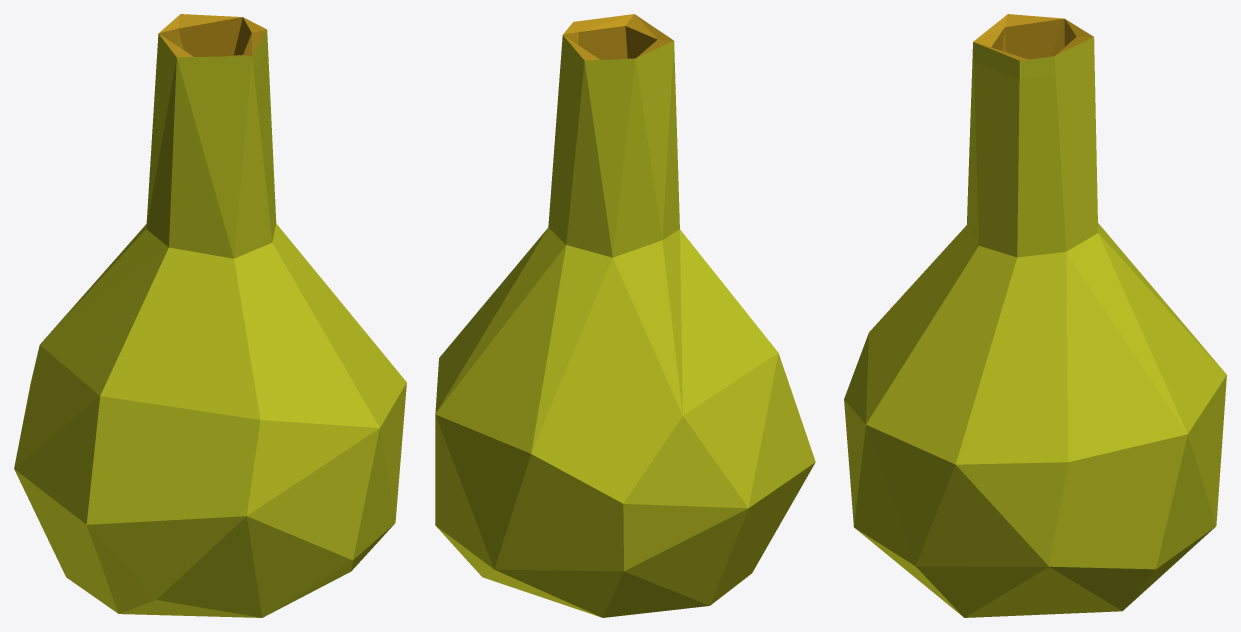
The model's file is Vase04.fbx.
The picture shows the model from 3 angles, left to right: view 1: azimuth 30°, elevation 25°; view 2: azimuth 150°, elevation 25°; view 3: azimuth 270°, elevation 25°; orthographic projection.
Parts seen in each view (by area): view 1: Vase04LowPoly; view 2: Vase04LowPoly; view 3: Vase04LowPoly.
Boxes of the visible parts, x1,y1,x2,y2 form: Vase04LowPoly: (14, 14, 406, 617); Vase04LowPoly: (435, 14, 815, 617); Vase04LowPoly: (844, 14, 1226, 617).
Bounding box in the file's own units: 7.83 × 11.92 × 7.77.
